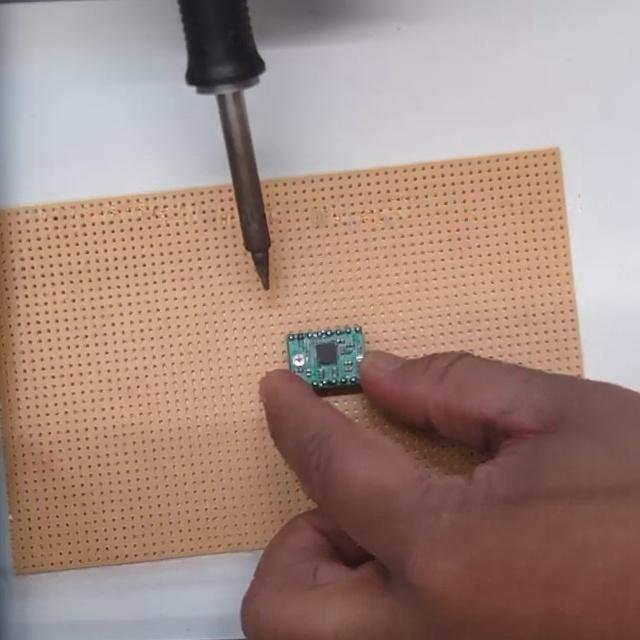Chip: (283, 328, 368, 394)
soldering_iron: (181, 0, 272, 291)
